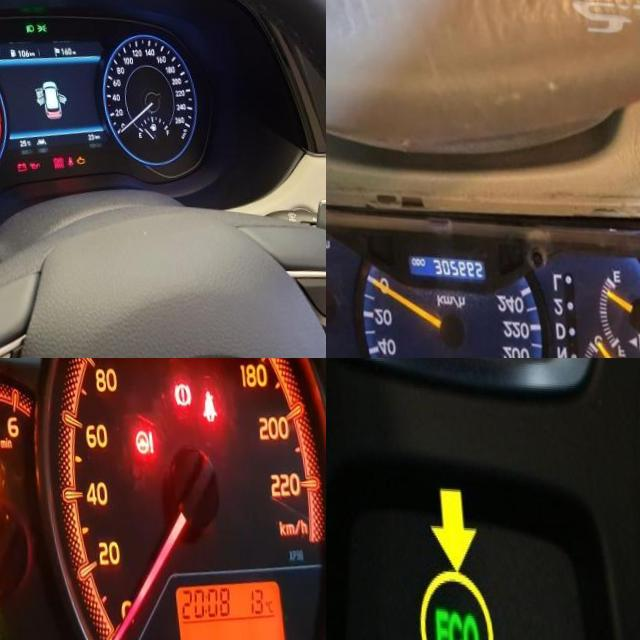Low beam: (21, 19, 31, 30)
SideLamp: (32, 18, 42, 29)
